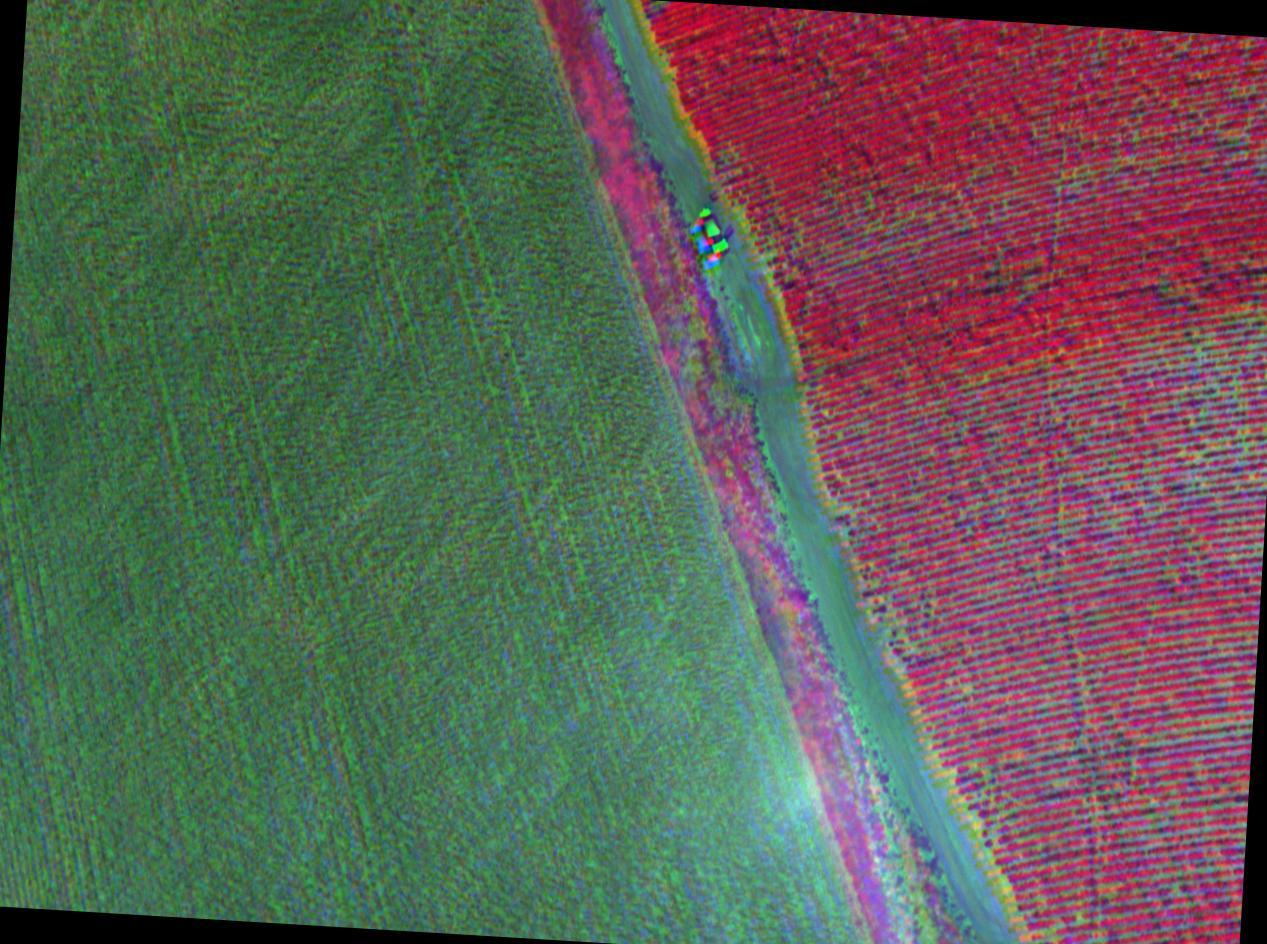dc: (971, 761, 1020, 846), (1186, 355, 1253, 411), (875, 593, 928, 656)
